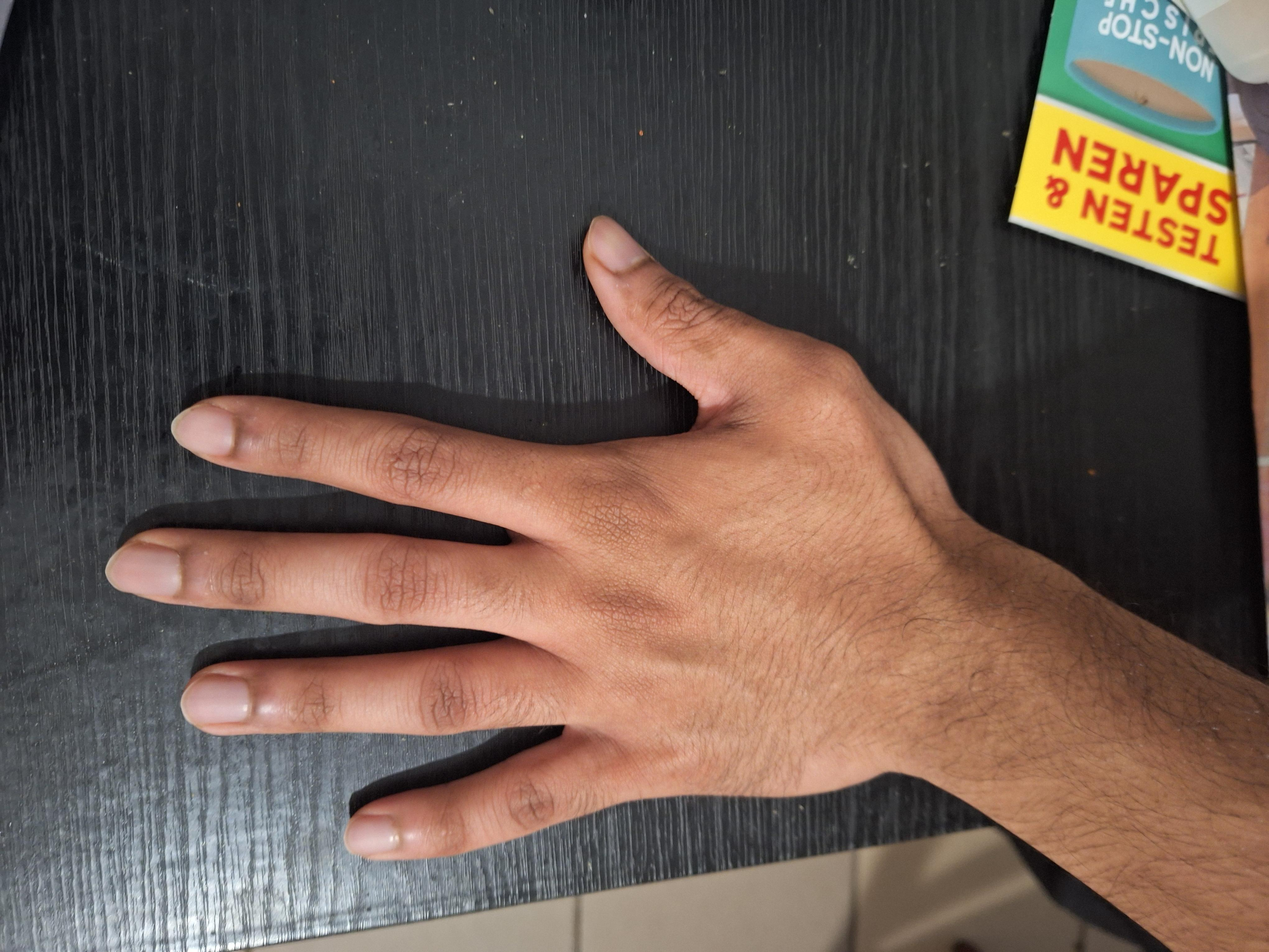Fingernail: (105, 542, 182, 597), (588, 216, 651, 276), (180, 674, 249, 726), (172, 404, 234, 458), (343, 815, 400, 857)
